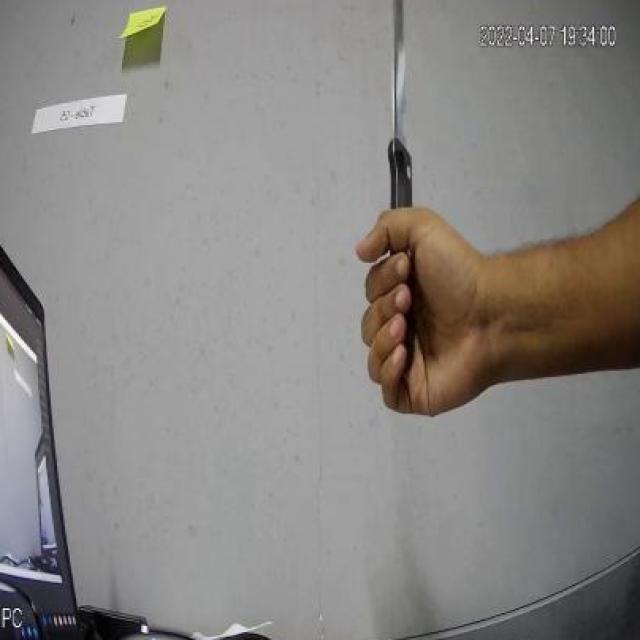Knife: (367, 0, 454, 343)
